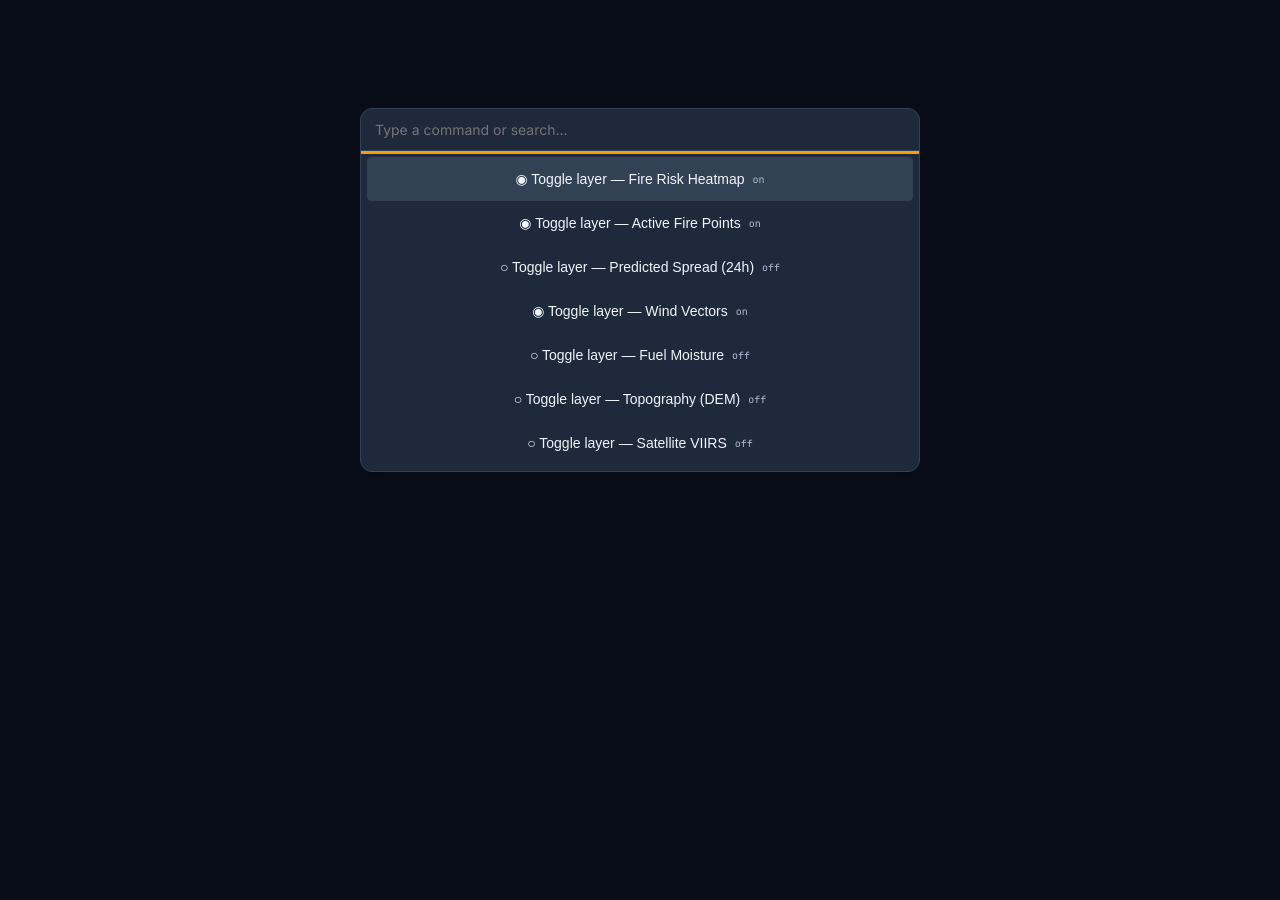
Test case: <CommandPalette> › substring filter narrows the list
In the field: (640, 130) [361,109,919,151], type "theme"
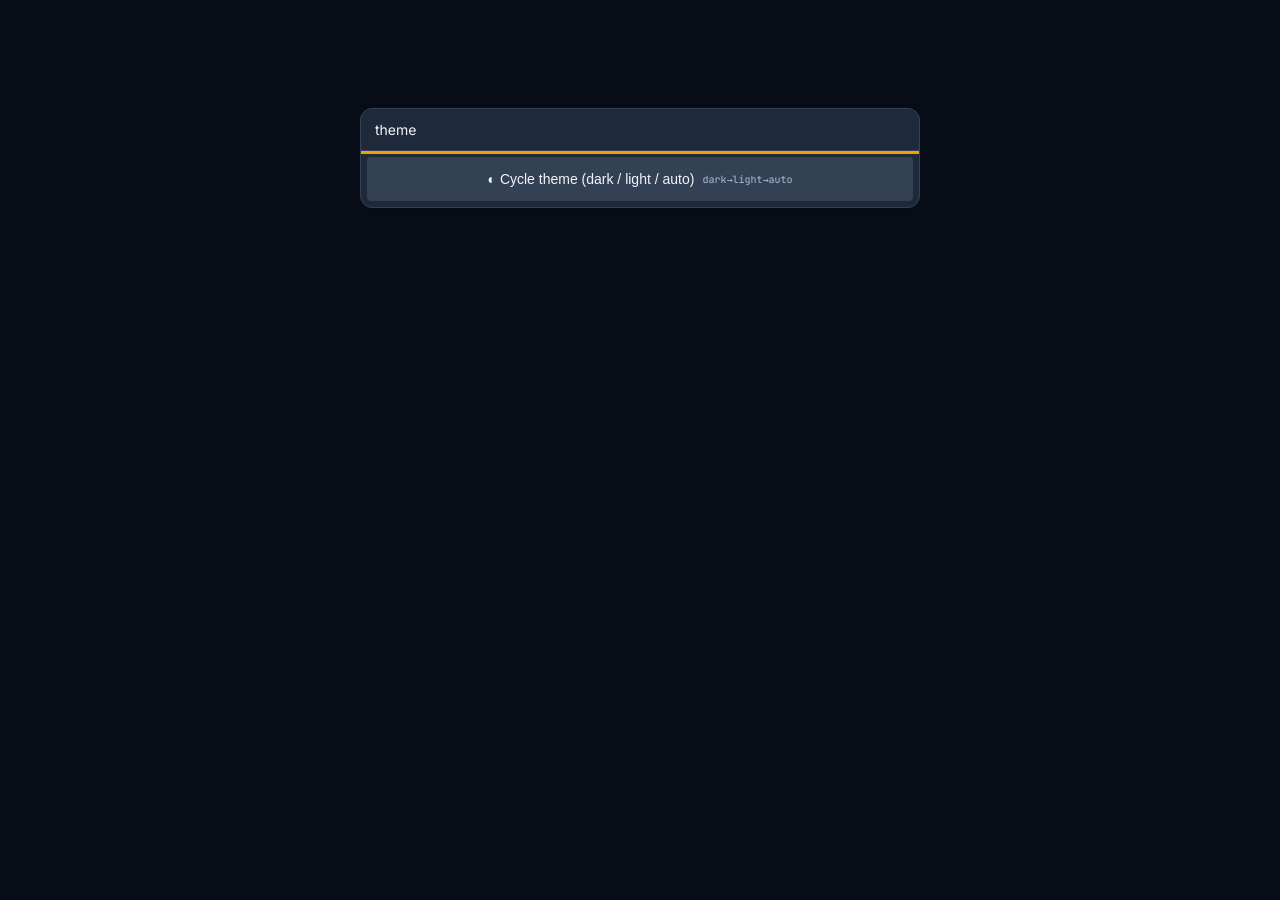
Now the number of options is 1, box [367,157,913,201]
Now the option shows "Cycle theme", box [367,157,913,201]
